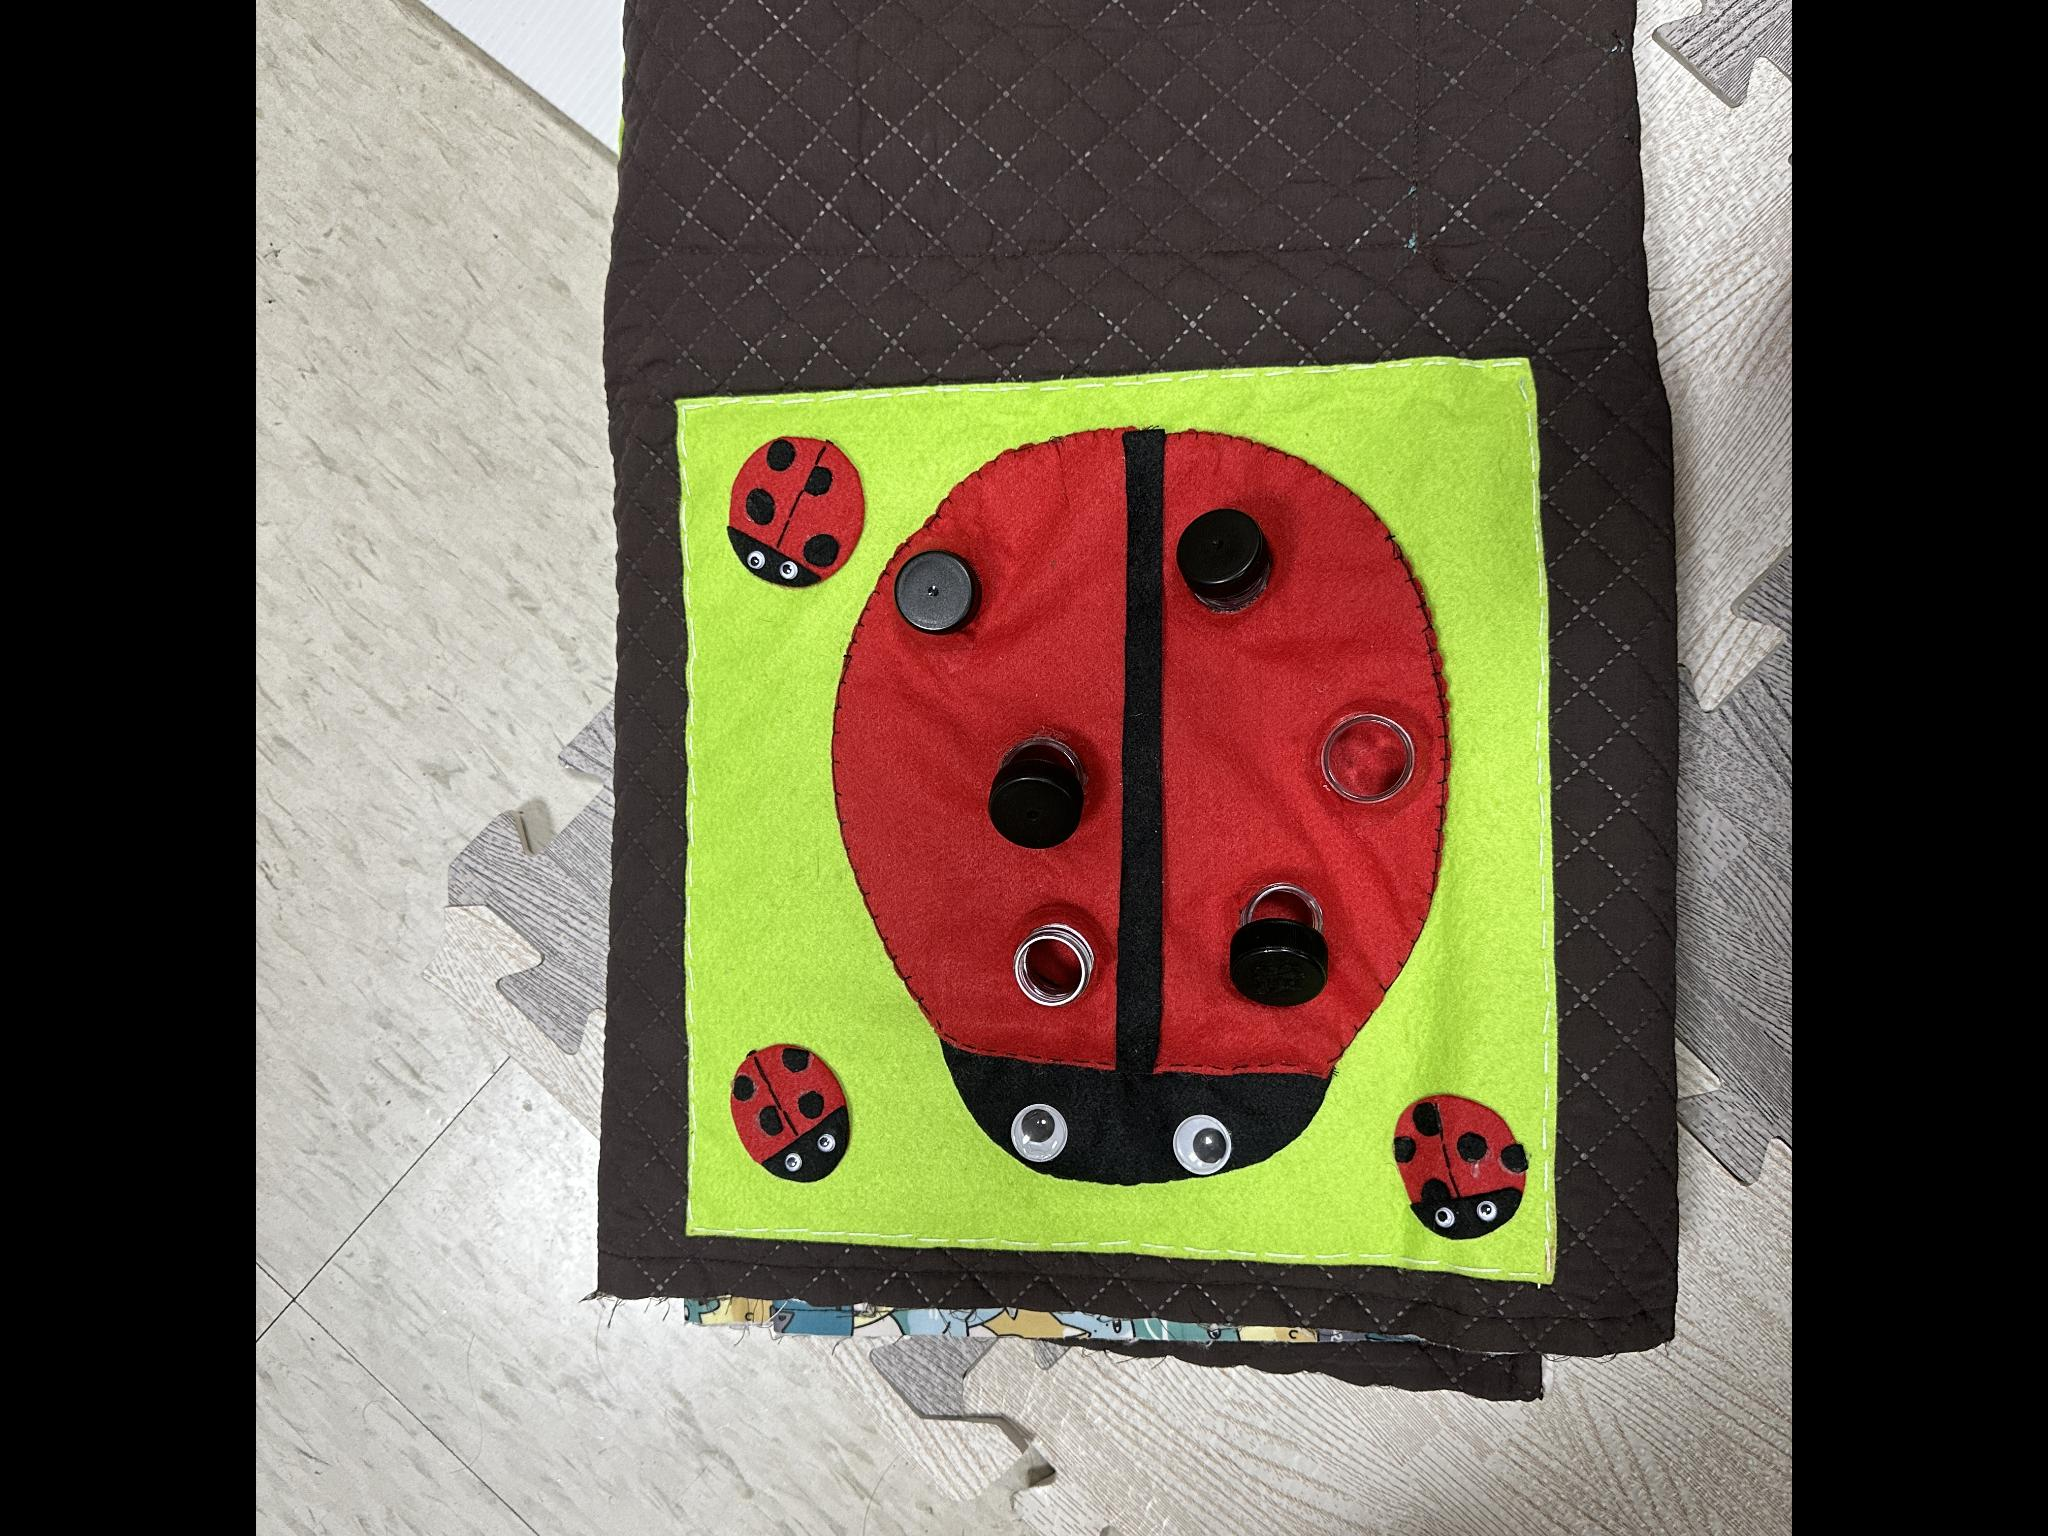cap_ng: (1193, 839, 1358, 1026), (974, 713, 1103, 857)
cap_ok: (1153, 486, 1303, 650), (874, 536, 998, 658)
